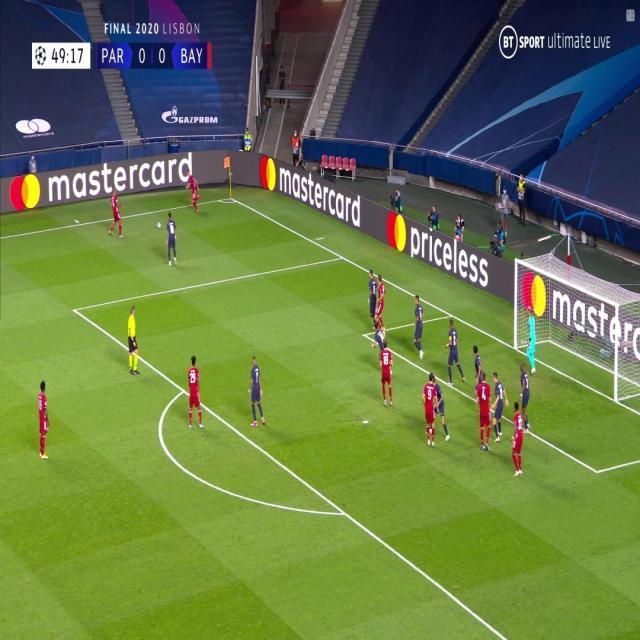ball: (156, 220, 162, 229)
goalkeeper: (527, 303, 537, 374)
player: (443, 317, 465, 387), (246, 353, 266, 429), (186, 356, 205, 432), (475, 371, 493, 451), (36, 379, 52, 462), (422, 372, 439, 449), (432, 374, 451, 442), (510, 401, 526, 481), (491, 370, 508, 443), (377, 339, 394, 409), (519, 362, 533, 431), (411, 293, 425, 359), (162, 211, 178, 268), (108, 189, 125, 239), (366, 267, 379, 331), (373, 272, 387, 326), (186, 170, 201, 214), (472, 345, 485, 383), (370, 322, 384, 354)
referee: (125, 303, 141, 378)
